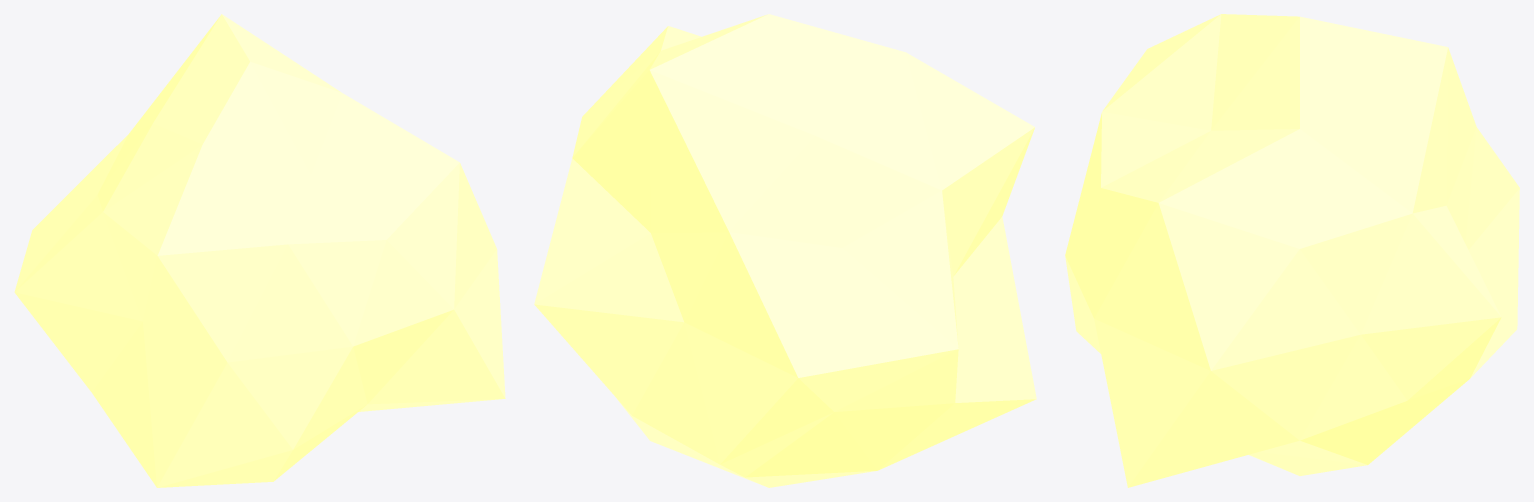
The model's file is FireballA.fbx.
3 views of the same model, side by side, from view 1: azimuth 30°, elevation 25°; view 2: azimuth 150°, elevation 25°; view 3: azimuth 270°, elevation 25° (orthographic). The views are drawn at different scales.
Visible parts, largest first — view 1: Emit_Fire0; view 2: Emit_Fire0; view 3: Emit_Fire0.
Part boxes in pixels (box(x1,y1,x2,y2)): Emit_Fire0: box(14, 14, 505, 487); Emit_Fire0: box(534, 14, 1036, 487); Emit_Fire0: box(1065, 14, 1519, 487).
Size of the model in its own units: 1.12 by 0.9564 by 1.07.
